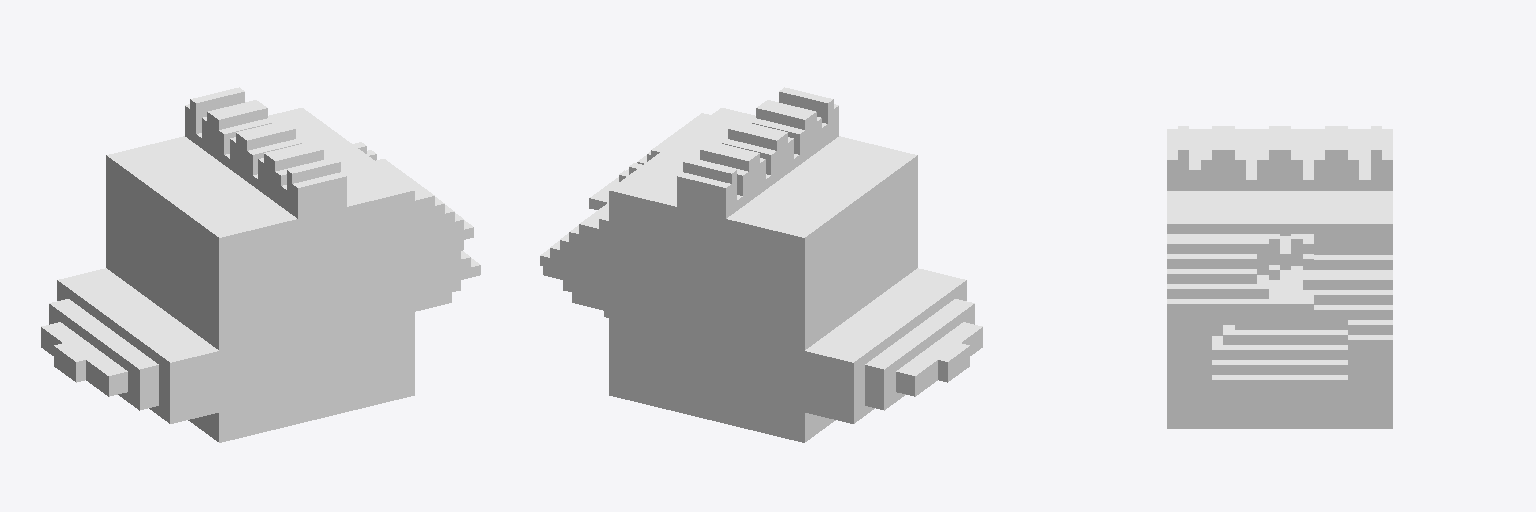
File: head.obj
The picture shows the model from 3 angles: view 1: azimuth 30°, elevation 25°; view 2: azimuth 150°, elevation 25°; view 3: azimuth 270°, elevation 25°; orthographic projection.
Visible parts, largest first — view 1: object 1; view 2: object 1; view 3: object 1.
Part boxes in pixels (bbox=[...]): object 1: bbox=[41, 87, 480, 442]; object 1: bbox=[540, 87, 982, 442]; object 1: bbox=[1167, 126, 1392, 428].
Size of the model in its own units: 3.9 by 2.4 by 2.